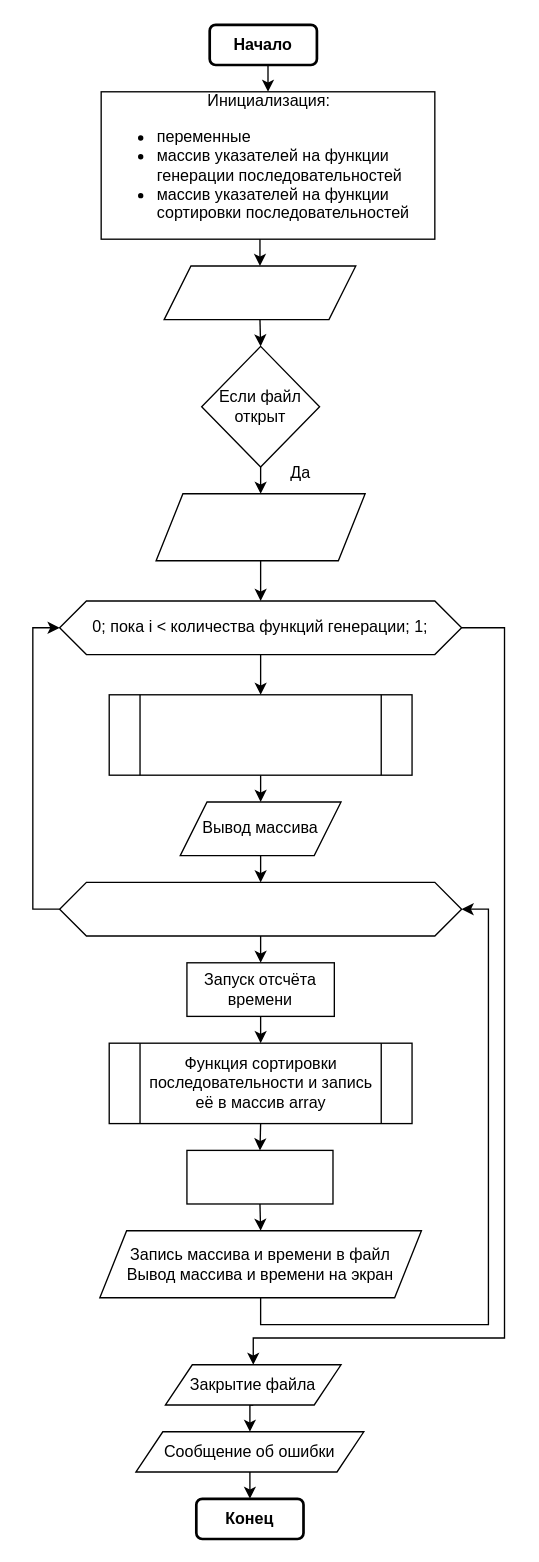
This 539x1562 diagram has some shape labels left out. The shapes that lost their labels are listed below. From the top down, each one's centre as x and y in pixels, then its label:
point (259, 292): Открытие файла
point (260, 526): Ввести переменные из фала
point (260, 734): Функция генерации последовательности и запись её в массив array
point (260, 908): 0; пока i < количества функций сортировки; 1;
point (259, 1176): Конец отсчёта времени
